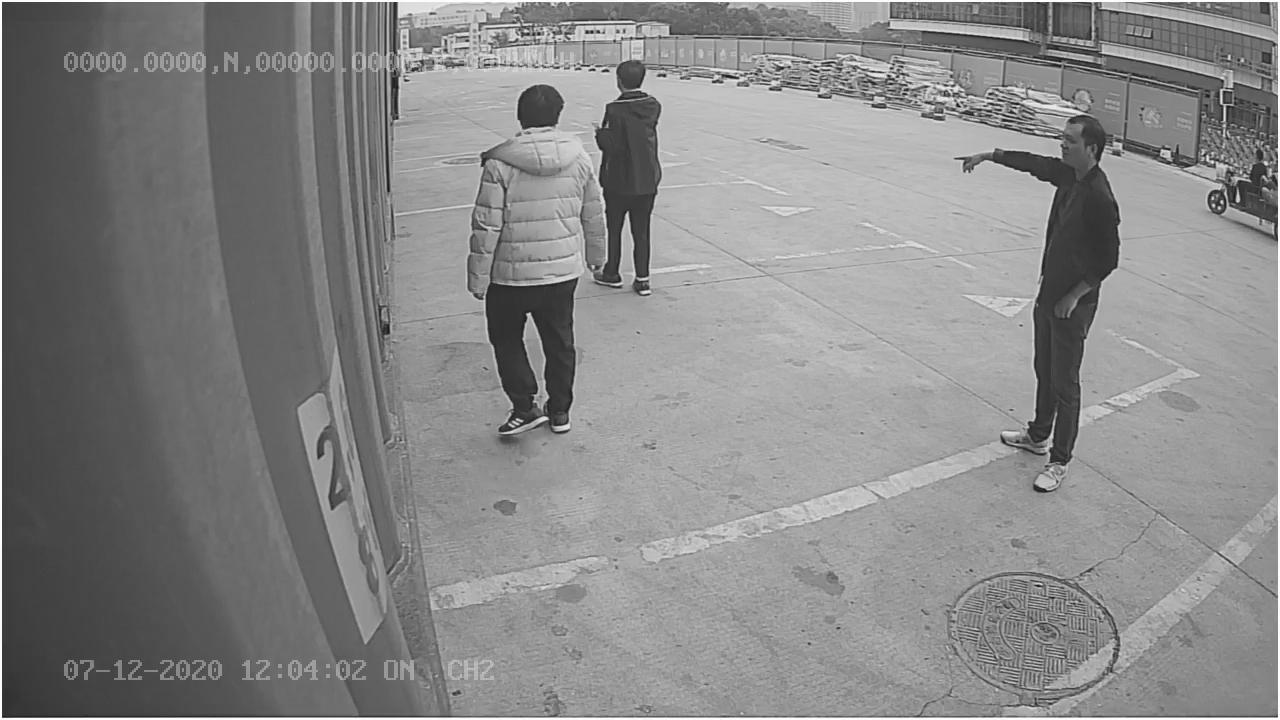person: (954, 113, 1128, 493), (463, 84, 608, 438)
